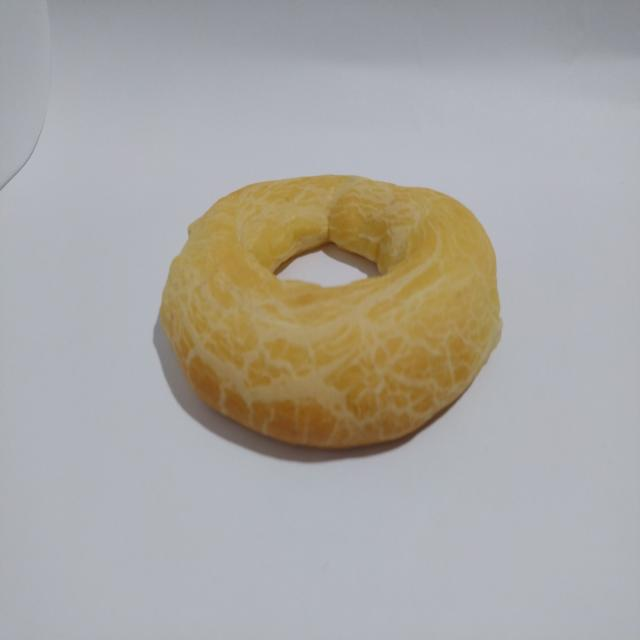Food: (146, 156, 512, 463)
